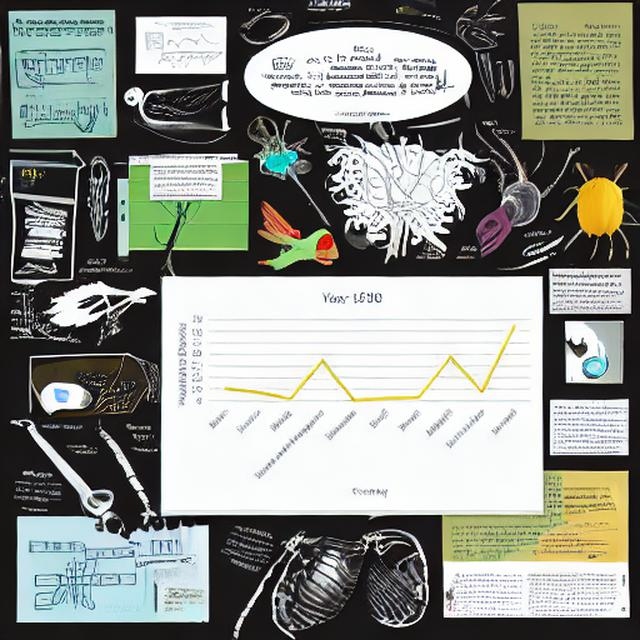Graph: (164, 281, 542, 513), (143, 21, 224, 72)
